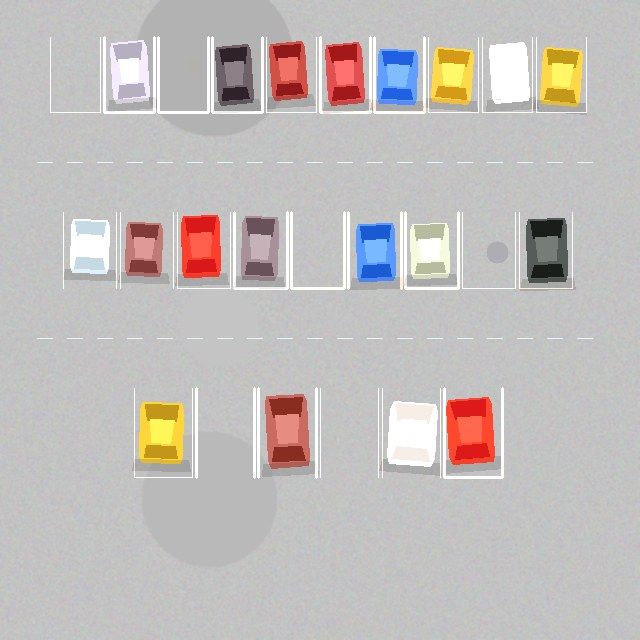space-empty: (196, 388, 254, 477), (320, 388, 378, 477), (291, 212, 344, 288), (462, 212, 515, 288), (50, 37, 100, 112), (158, 37, 208, 112)
space-occupied: (134, 388, 192, 477), (258, 388, 316, 477), (382, 388, 440, 477), (444, 388, 502, 477), (63, 212, 116, 288), (120, 212, 173, 288), (177, 212, 230, 288), (234, 212, 287, 288), (348, 212, 401, 288), (405, 212, 458, 288), (519, 212, 572, 288), (104, 37, 154, 112), (212, 37, 262, 112), (266, 37, 316, 112), (320, 37, 370, 112), (374, 37, 424, 112), (428, 37, 478, 112), (482, 37, 532, 112), (536, 37, 586, 112)
